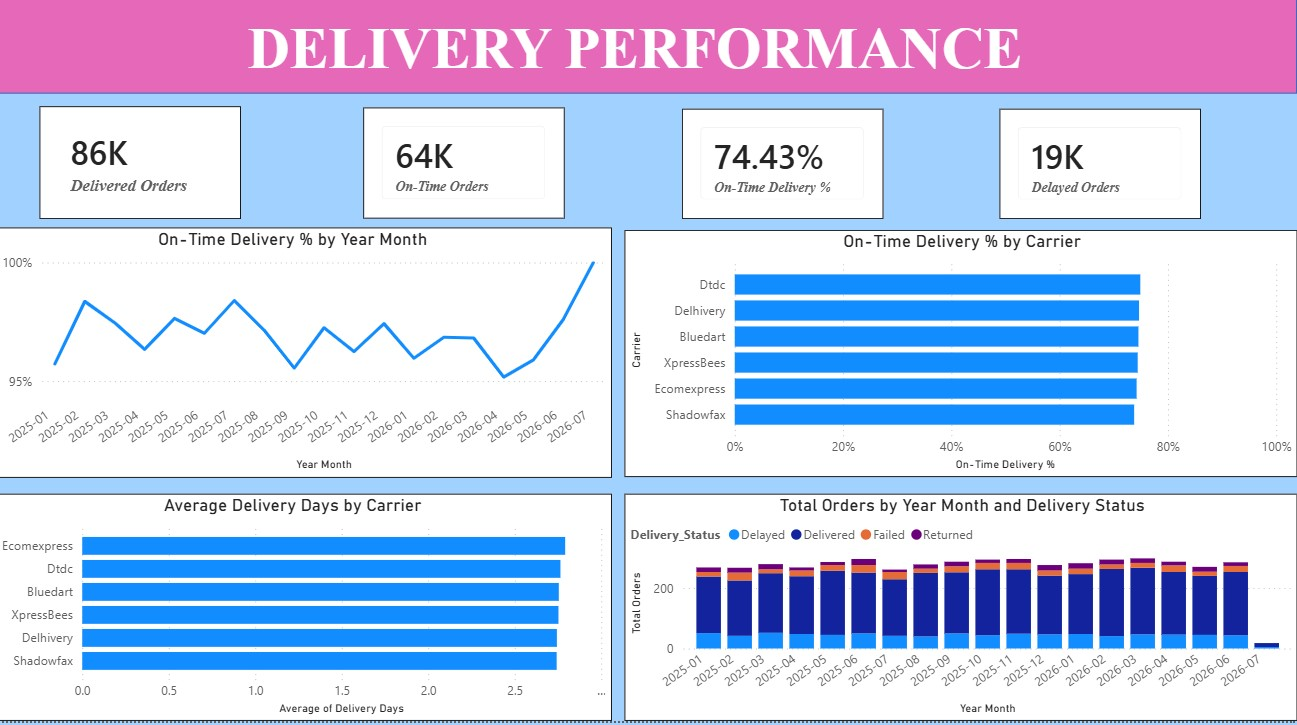

This screenshot's page, from the dashboard's own definition file:
{"tool":"powerbi","page":{"name":"Delivery Performance","canvas":[1280,720],"ordinal":1},"visuals":[{"type":"cardVisual","fields":{"Data":["Fact_Deliveries.Delivered Orders"]},"box":[65.1,126.7,194.2,108.6],"z":0},{"type":"cardVisual","fields":{"Data":["Fact_Deliveries.Delayed Orders"]},"box":[991.7,129.1,194.2,106.2],"z":1000},{"type":"cardVisual","fields":{"Data":["DIm_CIty.On-Time Delivery %"]},"box":[685.3,129.1,194.2,106.2],"z":2000},{"type":"cardVisual","fields":{"Data":["Fact_Deliveries.On-Time Orders"]},"box":[377.6,127.9,194.2,107.4],"z":3000},{"type":"lineChart","fields":{"Category":["Dim_Date.Year Month"],"Y":["DIm_CIty.On-Time Delivery %"]},"box":[0,243.7,617.7,241.3],"z":4000},{"type":"barChart","fields":{"Category":["DIm_Carrier.Carrier"],"Y":["DIm_CIty.On-Time Delivery %"]},"box":[629.8,245.6,650.4,238.8],"z":5000},{"type":"clusteredBarChart","fields":{"Category":["DIm_Carrier.Carrier"],"Y":["Sum(Fact_Deliveries.Average Delivery Days)"]},"box":[0,500.7,617.7,219.6],"z":6000},{"type":"columnChart","fields":{"Category":["Dim_Date.Year Month"],"Y":["Fact_Deliveries.Total Orders"],"Series":["Fact_Deliveries.Delivery_Status"]},"box":[629.8,500.7,650.3,219.6],"z":7000},{"type":"shape","box":[0,0,1280,114.6],"z":8000},{"type":"textbox","box":[0,35,1280,79.6],"z":9000}]}

Visuals, with their boxes in screenshot pixels (x1, y1, x2, y2), scaled from the page's 1280x720 canvas onto the 1297x725 screenshot:
cardVisual - Fact_Deliveries.Delivered Orders: bbox=[66, 128, 263, 237]
cardVisual - Fact_Deliveries.Delayed Orders: bbox=[1005, 130, 1202, 237]
cardVisual - DIm_CIty.On-Time Delivery %: bbox=[694, 130, 891, 237]
cardVisual - Fact_Deliveries.On-Time Orders: bbox=[383, 129, 579, 237]
lineChart - Dim_Date.Year Month x DIm_CIty.On-Time Delivery %: bbox=[0, 245, 626, 488]
barChart - DIm_Carrier.Carrier x DIm_CIty.On-Time Delivery %: bbox=[638, 247, 1296, 488]
clusteredBarChart - DIm_Carrier.Carrier x Sum(Fact_Deliveries.Average Delivery Days): bbox=[0, 504, 626, 724]
columnChart - Dim_Date.Year Month x Fact_Deliveries.Total Orders: bbox=[638, 504, 1296, 724]
shape: bbox=[0, 0, 1296, 115]
textbox: bbox=[0, 35, 1296, 115]
